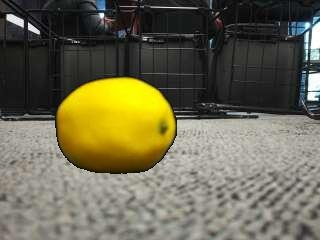lemon: (59, 77, 177, 172)
